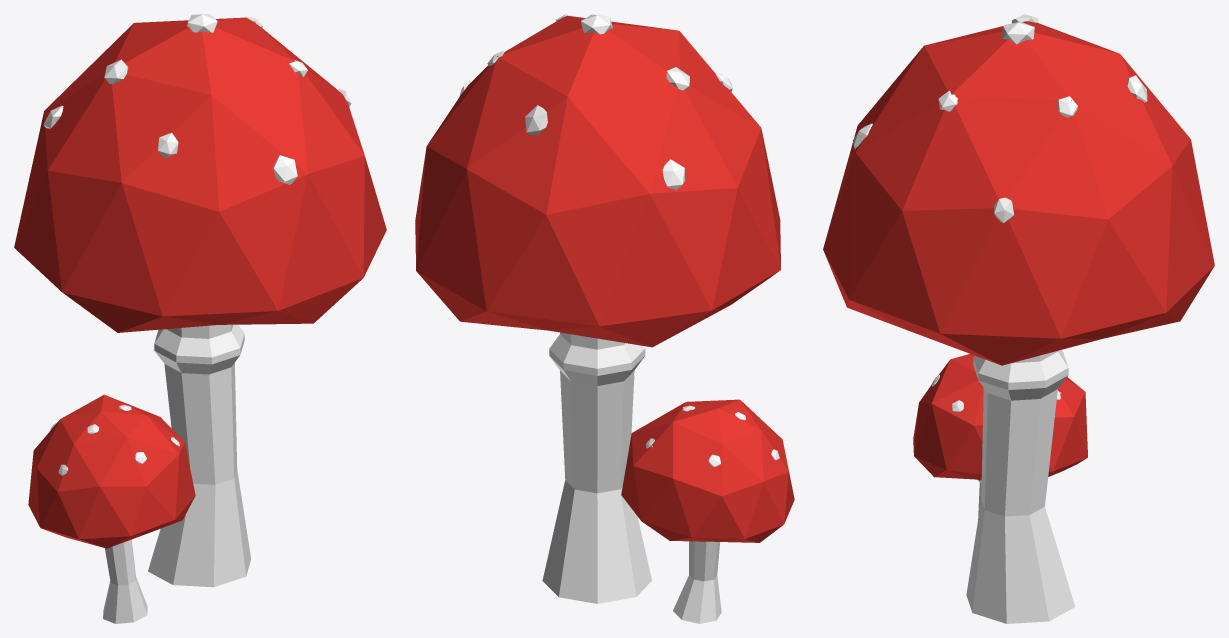
Rendered from mushroom-07.glb.
3 renders of one model, left to right at view 1: azimuth 30°, elevation 25°; view 2: azimuth 150°, elevation 25°; view 3: azimuth 270°, elevation 25°, orthographic. The views are drawn at different scales.
Visible parts, largest first — view 1: Mushroom5_3; view 2: Mushroom5_3; view 3: Mushroom5_3.
Boxes of the visible parts, x1,y1,x2,y2 form: Mushroom5_3: [14, 14, 386, 623]; Mushroom5_3: [415, 14, 794, 623]; Mushroom5_3: [823, 14, 1214, 623].
Size of the model in its own units: 0.9621 by 1.59 by 0.9432.
